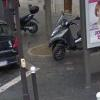Motorcycle: (43, 12, 92, 63)
